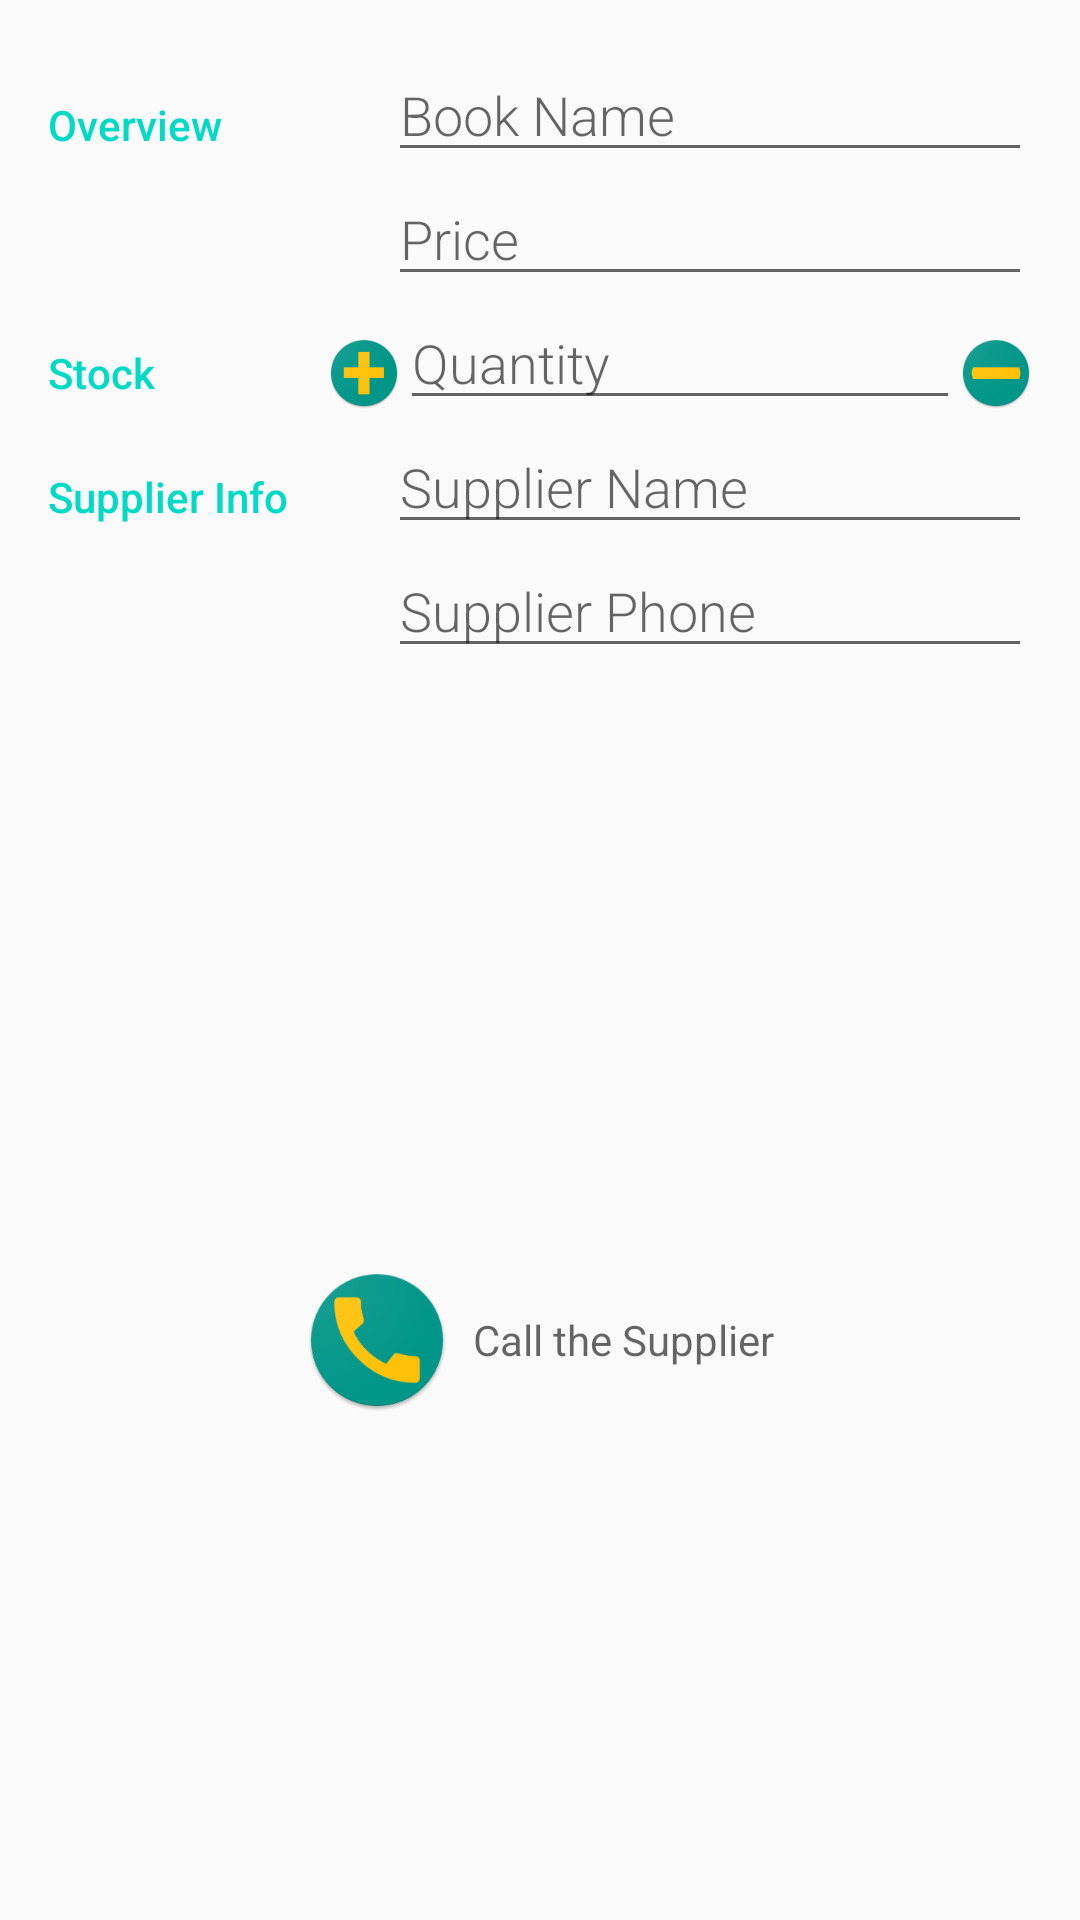

Where to tap for icons on this 1080×1920 app screen, as point (x, y):
minus: point (996, 374)
plus: point (364, 374)
